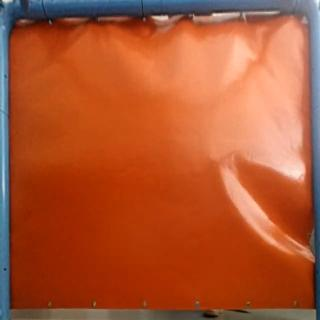Hit-hRxx: (209, 153, 223, 167)
